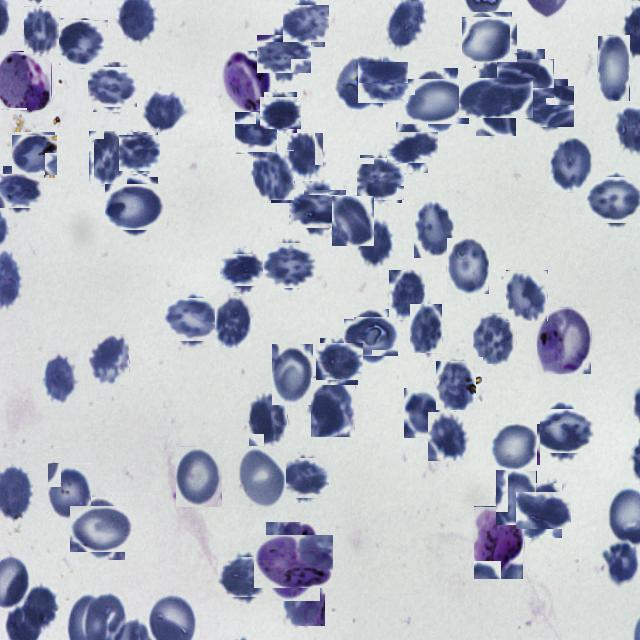difficult: (260, 528, 326, 594)
gametocyte: (474, 506, 524, 579)
red blood cell: (467, 70, 525, 128), (407, 74, 463, 130), (238, 446, 286, 510), (74, 501, 129, 556), (176, 446, 223, 507), (108, 181, 162, 234), (538, 406, 590, 458), (334, 55, 383, 110), (590, 174, 640, 226), (311, 378, 355, 437), (283, 566, 325, 626), (48, 463, 92, 520), (272, 344, 313, 405), (490, 422, 540, 472), (264, 240, 314, 290), (464, 15, 514, 65), (167, 294, 216, 344), (549, 138, 594, 192), (414, 199, 455, 258), (59, 19, 108, 67), (447, 238, 489, 294), (294, 185, 342, 233), (523, 82, 571, 130), (502, 54, 550, 102), (496, 469, 537, 525), (473, 313, 517, 364), (253, 150, 295, 203), (348, 313, 395, 360), (220, 554, 268, 600), (260, 31, 306, 78), (89, 130, 128, 185), (506, 270, 548, 321), (42, 352, 80, 408), (358, 156, 404, 202), (520, 488, 566, 534), (360, 60, 406, 106), (598, 35, 630, 101), (249, 392, 288, 446), (332, 196, 374, 246), (88, 334, 129, 385), (90, 65, 136, 110), (428, 412, 470, 461), (283, 456, 327, 501), (215, 295, 252, 348), (436, 361, 476, 410), (404, 388, 442, 438), (355, 219, 394, 267), (287, 132, 324, 181), (318, 340, 360, 383), (389, 270, 425, 320), (14, 134, 56, 176), (235, 112, 277, 154), (391, 126, 433, 168), (286, 2, 328, 44), (24, 6, 60, 54), (0, 170, 41, 211), (143, 92, 186, 131), (410, 304, 442, 353), (24, 586, 57, 632), (120, 134, 159, 172), (223, 251, 261, 289), (262, 94, 299, 131)
trophozoite: (537, 308, 591, 374), (0, 51, 52, 110), (222, 51, 271, 113)
